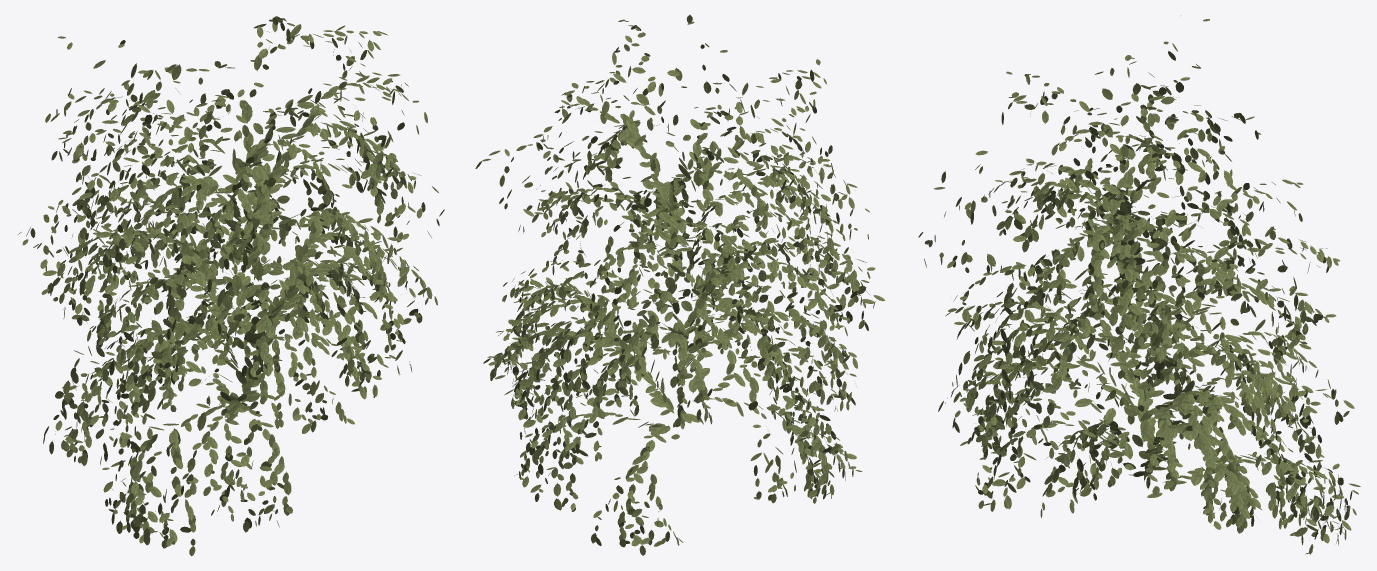
The model's file is MainTree_Leaves02.fbx.
The picture shows the model from 3 angles, left to right: view 1: azimuth 30°, elevation 25°; view 2: azimuth 150°, elevation 25°; view 3: azimuth 270°, elevation 25°; orthographic projection. The views are drawn at different scales.
Parts seen in each view (by area): view 1: MainTree_Leaves02; view 2: MainTree_Leaves02; view 3: MainTree_Leaves02.
Boxes of the visible parts, x1,y1,x2,y2 form: MainTree_Leaves02: [18, 16, 444, 556]; MainTree_Leaves02: [475, 14, 884, 555]; MainTree_Leaves02: [918, 19, 1360, 554].
Size of the model in its own units: 700 by 830 by 721.
